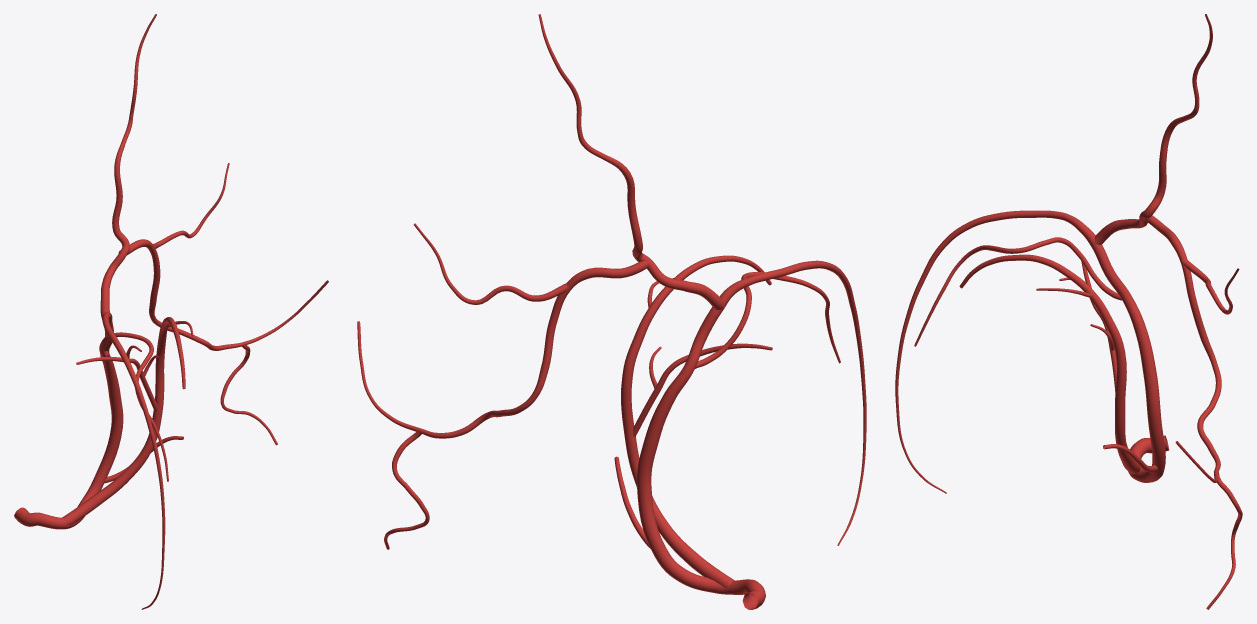
3 renders of one model, left to right at view 1: azimuth 30°, elevation 25°; view 2: azimuth 150°, elevation 25°; view 3: azimuth 270°, elevation 25°, orthographic. The views are drawn at different scales.
Parts seen in each view (by area): view 1: 左侧大脑后动脉; view 2: 左侧大脑后动脉; view 3: 左侧大脑后动脉.
Boxes of the visible parts, bbox=[...] form: 左侧大脑后动脉: bbox=[14, 14, 328, 609]; 左侧大脑后动脉: bbox=[357, 14, 866, 609]; 左侧大脑后动脉: bbox=[895, 14, 1242, 609].
Size of the model in its own units: 0.0835 by 0.1204 by 0.0688.
